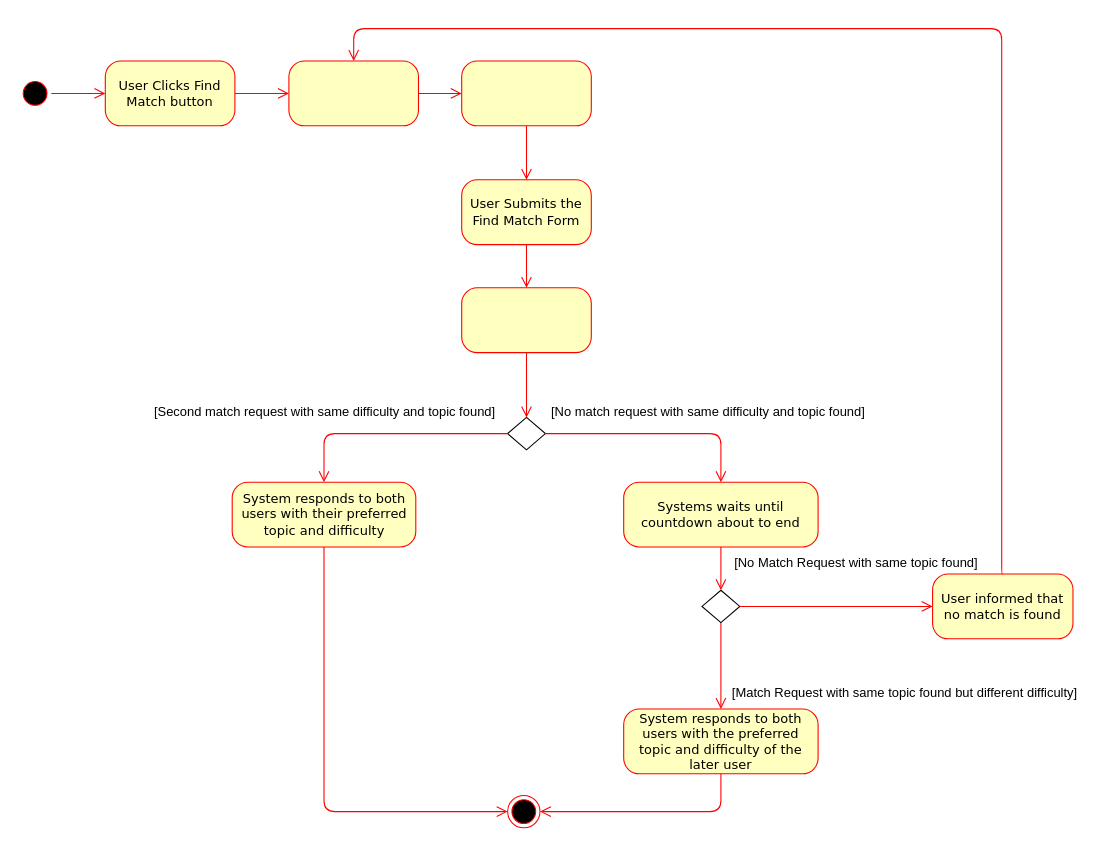
This 1107x847 diagram has some shape labels left out. The box of each missing label's shape, as (x1, y1, x2, y2) in pixels:
Countdown Timer displayed with cancel button: (461, 287, 591, 353)
Find Match Form Displayed: (288, 60, 418, 126)
User Selects Topic and difficulty: (461, 60, 591, 126)
